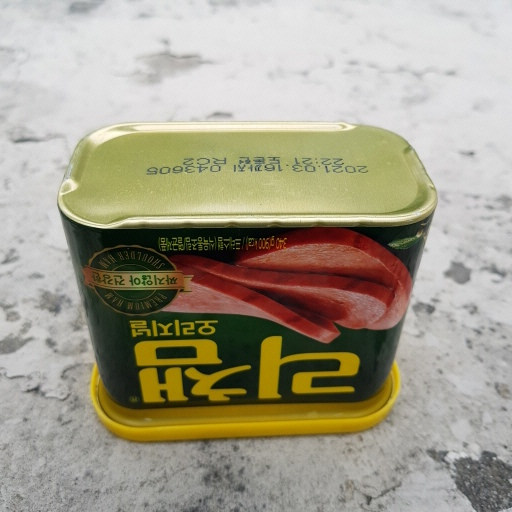Metal_2: (57, 114, 438, 441)
